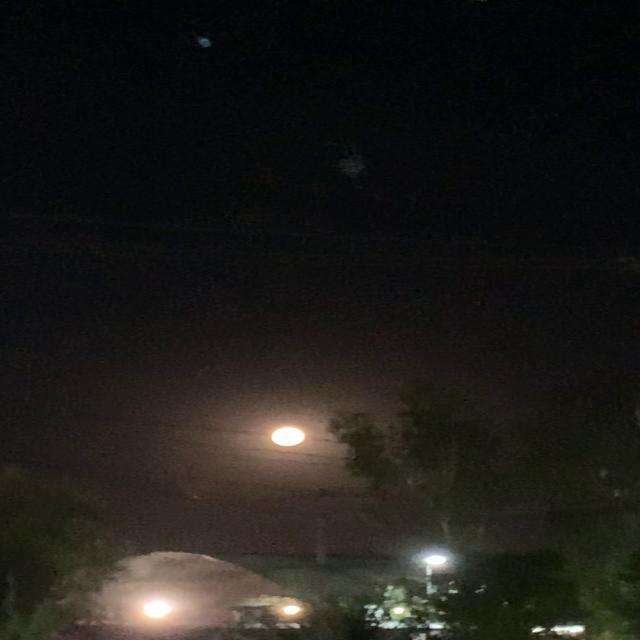moon: (262, 422, 314, 447)
